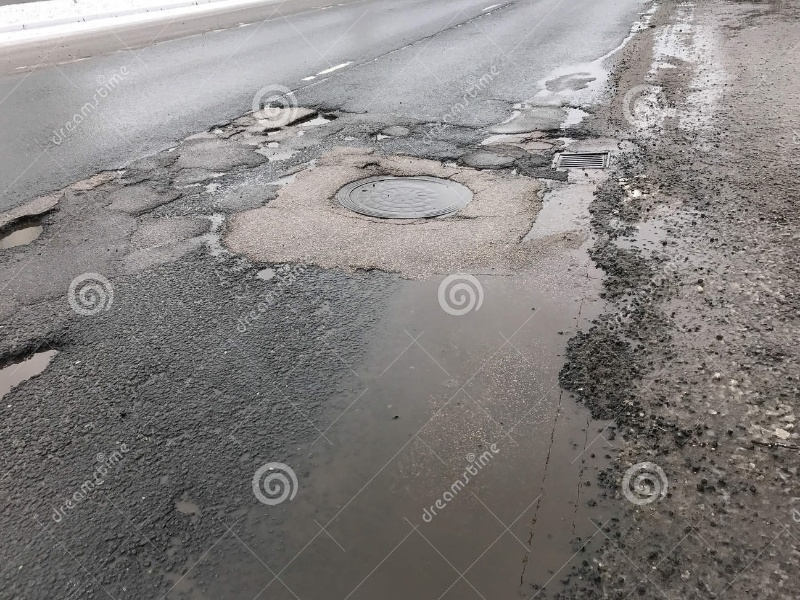pothole: (1, 334, 77, 397), (1, 203, 60, 254), (266, 106, 342, 133), (539, 123, 594, 151)
